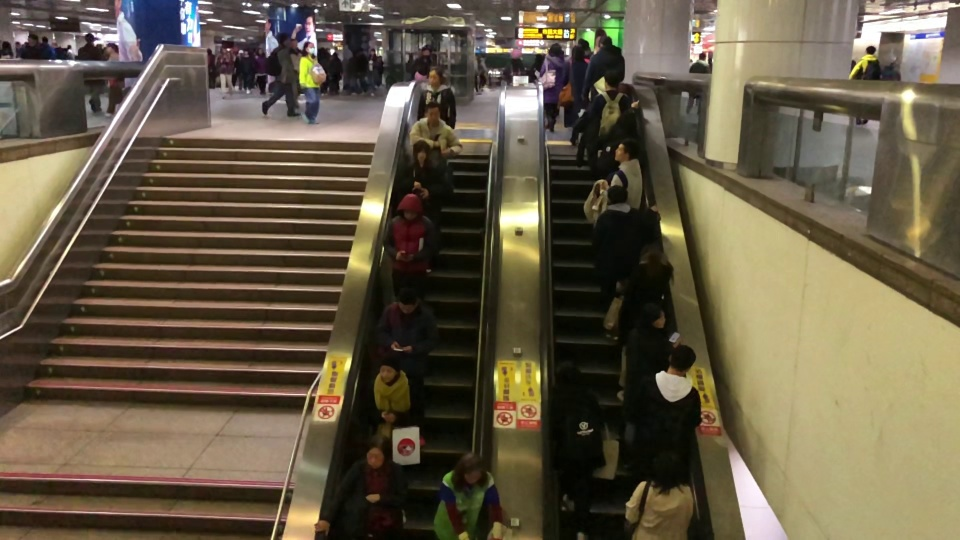person_head: (650, 447, 690, 494), (667, 343, 697, 378), (366, 432, 391, 468), (458, 451, 485, 483), (553, 359, 580, 386), (397, 193, 423, 220), (395, 286, 419, 315), (613, 137, 639, 162), (377, 356, 401, 383), (644, 302, 665, 327), (616, 108, 637, 132), (639, 242, 661, 264), (411, 139, 431, 163), (605, 184, 629, 203), (426, 65, 446, 86), (423, 101, 440, 123), (603, 69, 618, 90), (548, 42, 563, 56), (303, 41, 316, 57), (596, 35, 613, 47), (572, 45, 584, 61), (276, 32, 289, 45), (105, 43, 118, 55), (509, 47, 523, 58), (27, 33, 38, 45), (865, 45, 876, 56), (84, 32, 94, 44), (2, 39, 12, 50), (421, 45, 431, 56), (289, 38, 299, 48), (888, 57, 898, 67), (698, 51, 706, 61), (257, 46, 264, 55), (534, 52, 541, 61), (221, 42, 227, 51), (370, 48, 376, 55), (42, 35, 47, 42)
person_vbox: (375, 286, 437, 450), (314, 432, 407, 540), (364, 356, 419, 532), (616, 241, 675, 403), (552, 358, 603, 539), (590, 184, 660, 308), (621, 302, 681, 445), (630, 343, 702, 457), (624, 447, 694, 540), (433, 451, 504, 540), (401, 138, 447, 275), (382, 192, 439, 301), (587, 68, 639, 143), (260, 32, 302, 118), (409, 100, 462, 160), (600, 143, 644, 211), (582, 36, 625, 103), (597, 107, 637, 175), (416, 64, 456, 131), (849, 44, 881, 126), (297, 41, 326, 126), (539, 42, 566, 132), (77, 32, 105, 115), (563, 45, 587, 127), (685, 51, 710, 115), (104, 43, 123, 118), (215, 42, 235, 101), (289, 38, 302, 107), (503, 46, 523, 83), (19, 34, 43, 59), (255, 47, 267, 94), (881, 56, 902, 81), (367, 48, 377, 97), (529, 52, 541, 80), (42, 35, 55, 59), (0, 39, 13, 59)
